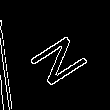N_NE: (19, 24, 91, 86)
